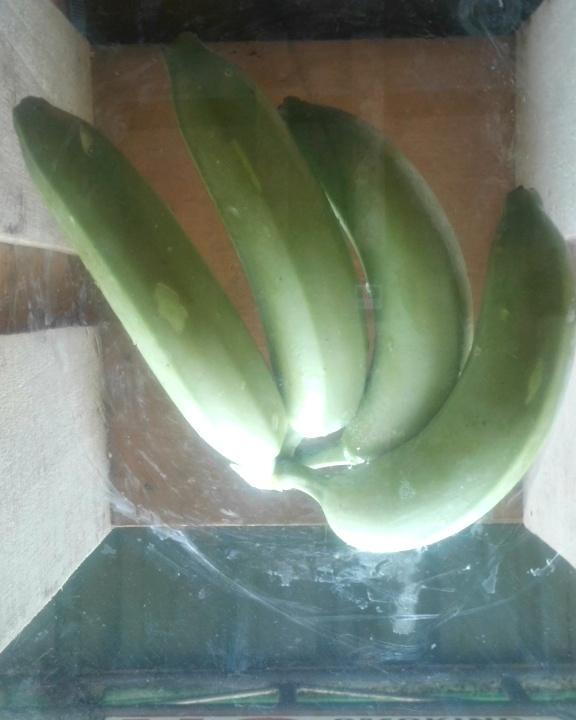SPOT: (10, 25, 576, 561)
